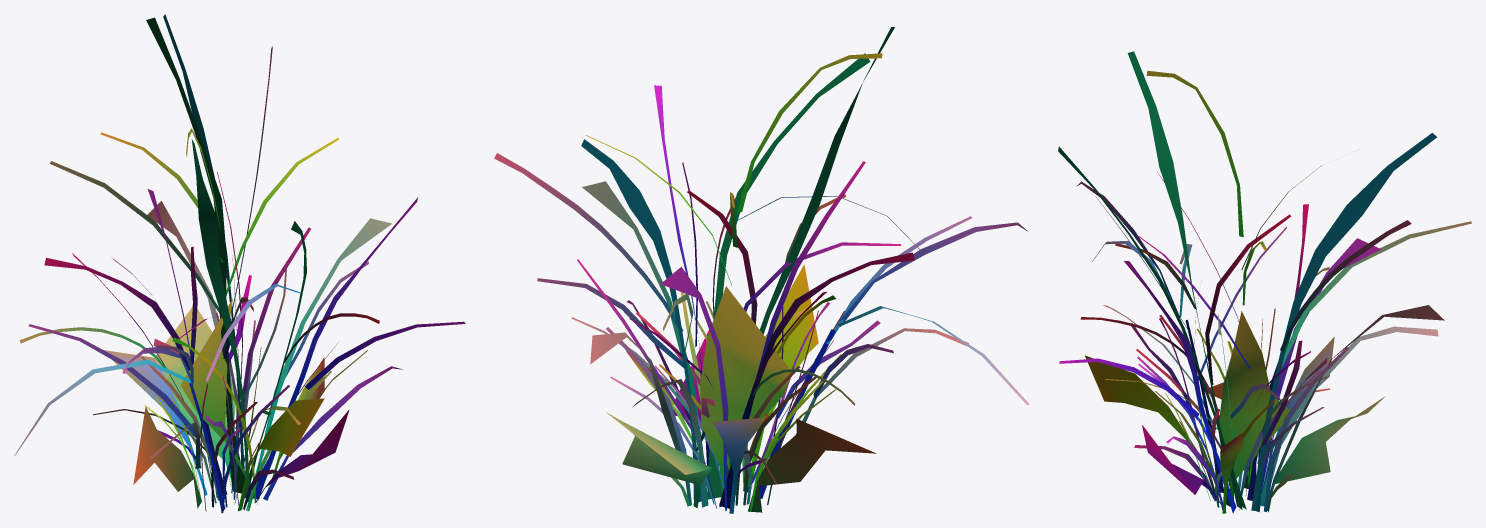
File: Wild_Grass_sjliZ_Mid_sjliZ_VarE_LOD0.fbx
3 views of the same model, side by side, from view 1: azimuth 30°, elevation 25°; view 2: azimuth 150°, elevation 25°; view 3: azimuth 270°, elevation 25° (orthographic). The views are drawn at different scales.
Visible parts, largest first — view 1: _fb88_VarE_LOD1; view 2: _fb88_VarE_LOD1; view 3: _fb88_VarE_LOD1.
Boxes of the visible parts, bbox=[...] form: _fb88_VarE_LOD1: bbox=[14, 14, 465, 513]; _fb88_VarE_LOD1: bbox=[494, 27, 1029, 513]; _fb88_VarE_LOD1: bbox=[1058, 51, 1471, 513].
Bounding box in the file's own units: 136 × 155 × 126.
